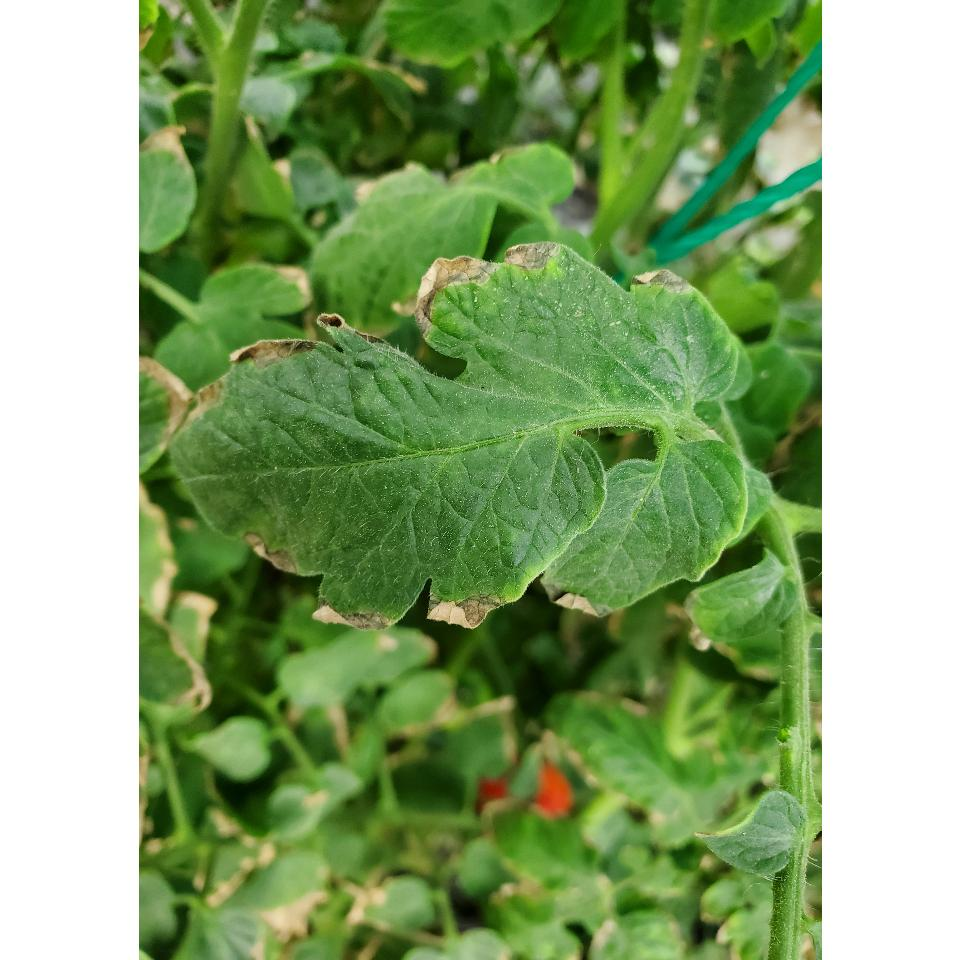tomato_bacterial_blight: (160, 240, 756, 636)
